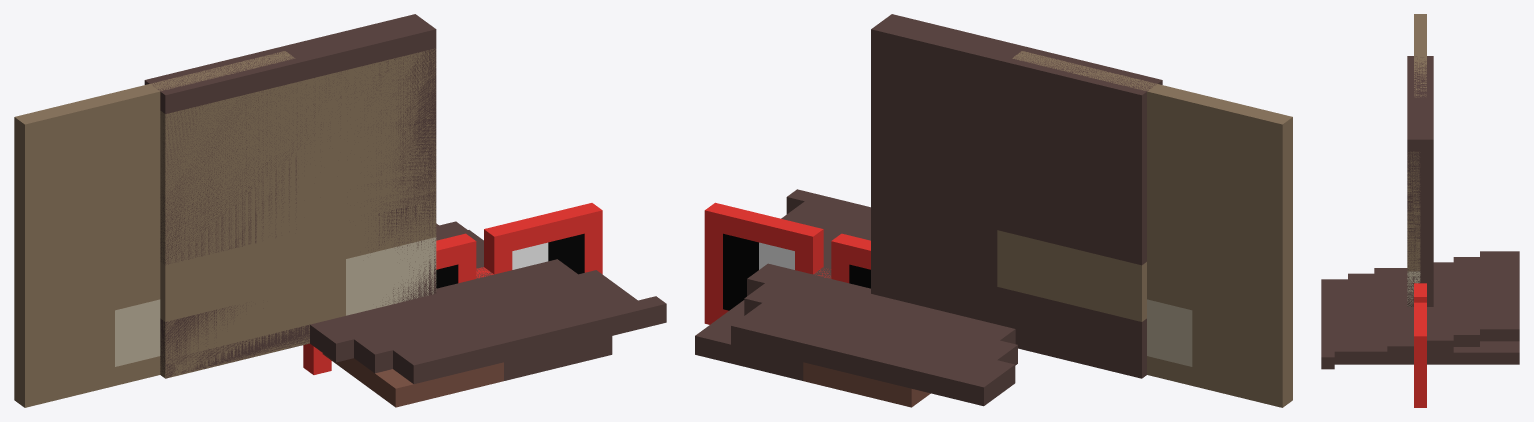
3 views of the same model, side by side, from view 1: azimuth 30°, elevation 25°; view 2: azimuth 150°, elevation 25°; view 3: azimuth 270°, elevation 25° (orthographic). The views are drawn at different scales.
Visible parts, largest first — view 1: right, front, bottom, back, layer-1, top-left, left, top-right, layer-2; view 2: left, front, bottom, layer-1, layer-2, top-right, right, top-left; view 3: bottom, left, right, top-right, back, layer-1, front.
Boxes of the visible parts, x1=… form: right: x1=156, y1=21, x2=436, y2=378; front: x1=14, y1=51, x2=295, y2=407; bottom: x1=310, y1=223, x2=666, y2=383; back: x1=160, y1=29, x2=436, y2=378; layer-1: x1=303, y1=203, x2=602, y2=374; top-left: x1=322, y1=353, x2=503, y2=407; left: x1=144, y1=14, x2=425, y2=86; top-right: x1=439, y1=221, x2=612, y2=380; layer-2: x1=436, y1=233, x2=584, y2=288; left: x1=871, y1=21, x2=1151, y2=378; front: x1=1012, y1=51, x2=1292, y2=407; bottom: x1=731, y1=189, x2=1017, y2=406; layer-1: x1=704, y1=202, x2=870, y2=324; layer-2: x1=723, y1=233, x2=870, y2=310; top-right: x1=695, y1=300, x2=803, y2=380; right: x1=882, y1=14, x2=1162, y2=87; top-left: x1=803, y1=362, x2=930, y2=407; bottom: x1=1321, y1=251, x2=1519, y2=369; left: x1=1420, y1=56, x2=1433, y2=306; right: x1=1407, y1=56, x2=1420, y2=306; top-right: x1=1334, y1=341, x2=1519, y2=364; back: x1=1407, y1=139, x2=1420, y2=306; layer-1: x1=1414, y1=283, x2=1426, y2=407; front: x1=1414, y1=14, x2=1426, y2=97.
Size of the model in its own units: 32 by 18 by 15.
15 materials, 15 textured.
